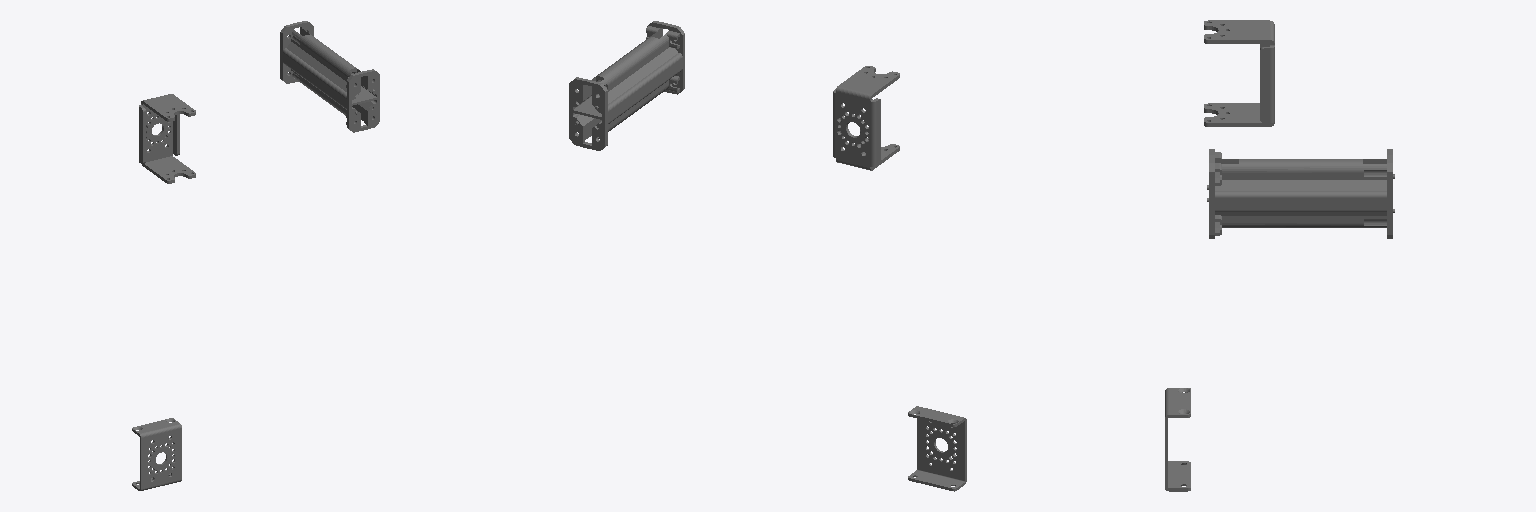
URDF robot description (turtlebot3_manipulation):
<?xml version="1.0"?>
<robot name="turtlebot3_manipulation">

  <!-- Material Definitions -->
  <material name="light_black">
    <color rgba="0.1 0.1 0.1 1.0"/>
  </material>

  <material name="dark">
    <color rgba="0.2 0.2 0.2 1.0"/>
  </material>

  <material name="grey">
    <color rgba="0.5 0.5 0.5 1.0"/>
  </material>

  <!-- TurtleBot3 Waffle Pi Definition -->
  <link name="base_footprint"/>

  <joint name="base_joint" type="fixed">
    <parent link="base_footprint"/>
    <child link="base_link"/>
    <origin xyz="0 0 0.010" rpy="0 0 0"/>
  </joint>

  <link name="base_link">
    <visual>
      <origin xyz="-0.064 0 0.0" rpy="0 0 0"/>
      <geometry>
        <mesh filename="package://turtlebot3/meshes/base.stl" scale="0.001 0.001 0.001"/>
      </geometry>
      <material name="light_black"/>
    </visual>
  </link>

  <!-- Wheels -->
  <joint name="wheel_left_joint" type="continuous">
    <parent link="base_link"/>
    <child link="wheel_left_link"/>
    <origin xyz="0.0 0.144 0.023" rpy="-1.57 0 0"/>
    <axis xyz="0 0 1"/>
  </joint>

  <link name="wheel_left_link">
    <visual>
      <origin xyz="0 0 0" rpy="1.57 0 0"/>
      <geometry>
        <mesh filename="package://turtlebot3/meshes/left_tire.stl" scale="0.001 0.001 0.001"/>
      </geometry>
      <material name="dark"/>
    </visual>
  </link>

  <joint name="wheel_right_joint" type="continuous">
    <parent link="base_link"/>
    <child link="wheel_right_link"/>
    <origin xyz="0.0 -0.144 0.023" rpy="-1.57 0 0"/>
    <axis xyz="0 0 1"/>
  </joint>

  <link name="wheel_right_link">
    <visual>
      <origin xyz="0 0 0" rpy="1.57 0 0"/>
      <geometry>
        <mesh filename="package://turtlebot3/meshes/right_tire.stl" scale="0.001 0.001 0.001"/>
      </geometry>
      <material name="dark"/>
    </visual>
  </link>

  <!-- OpenManipulator-X -->
  <joint name="base_fixed" type="fixed">
    <parent link="base_link"/>
    <child link="link1"/>
    <origin xyz="-0.092 0.0 0.091" rpy="0 0 0"/>
  </joint>

  <link name="link1">
    <visual>
      <geometry>
        <mesh filename="package://turtlebot3/meshes/link1.stl" scale="0.001 0.001 0.001"/>
      </geometry>
      <material name="grey"/>
    </visual>
  </link>

  <joint name="joint1" type="revolute">
    <parent link="link1"/>
    <child link="link2"/>
    <origin xyz="0.012 0.0 0.017" rpy="0 0 0"/>
    <axis xyz="0 0 1"/>
    <limit lower="-2.827" upper="2.827" effort="1.0" velocity="1.0"/>
  </joint>

  <link name="link2">
    <visual>
      <geometry>
        <mesh filename="package://turtlebot3/meshes/link2.stl" scale="0.001 0.001 0.001"/>
      </geometry>
      <material name="grey"/>
    </visual>
  </link>

  <joint name="joint2" type="revolute">
    <parent link="link2"/>
    <child link="link3"/>
    <origin xyz="0.0 0.0 0.0595" rpy="0 0 0"/>
    <axis xyz="0 1 0"/>
    <limit lower="-1.8" upper="1.57" effort="1.0" velocity="1.0"/>
  </joint>

  <link name="link3">
    <visual>
      <geometry>
        <mesh filename="package://turtlebot3/meshes/link3.stl" scale="0.001 0.001 0.001"/>
      </geometry>
      <material name="grey"/>
    </visual>
  </link>

  <joint name="joint3" type="revolute">
    <parent link="link3"/>
    <child link="link4"/>
    <origin xyz="0.024 0 0.128" rpy="0 0 0"/>
    <axis xyz="0 1 0"/>
    <limit lower="-2.827" upper="2.827" effort="1.0" velocity="1.0"/>
  </joint>

  <link name="link4">
    <visual>
      <geometry>
        <mesh filename="package://turtlebot3/meshes/link4.stl" scale="0.001 0.001 0.001"/>
      </geometry>
      <material name="grey"/>
    </visual>
  </link>

  <joint name="joint4" type="revolute">
    <parent link="link4"/>
    <child link="link5"/>
    <origin xyz="0.124 0.0 0.0" rpy="0 0 0"/>
    <axis xyz="0 1 0"/>
    <limit lower="-2.827" upper="2.827" effort="1.0" velocity="1.0"/>
  </joint>

  <link name="link5">
    <visual>
      <geometry>
        <mesh filename="package://turtlebot3/meshes/link5.stl" scale="0.001 0.001 0.001"/>
      </geometry>
      <material name="grey"/>
    </visual>
  </link>

  <!-- Grippers -->
  <joint name="gripper_left_joint" type="prismatic">
    <parent link="link5"/>
    <child link="gripper_left_link"/>
    <origin xyz="0.0817 0.021 0.0" rpy="0 0 0"/>
    <axis xyz="0 1 0"/>
    <limit lower="-0.01" upper="0.019" effort="1.0" velocity="1.0"/>
  </joint>

  <link name="gripper_left_link">
    <visual>
      <geometry>
        <mesh filename="package://turtlebot3/meshes/gripper_left_palm.stl" scale="0.001 0.001 0.001"/>
      </geometry>
      <material name="grey"/>
    </visual>
  </link>
</robot>

--- Facts derived from the render (not from the file) ---
The picture shows the robot from 3 angles, left to right: view 1: azimuth 30°, elevation 25°; view 2: azimuth 150°, elevation 25°; view 3: azimuth 270°, elevation 25°; orthographic projection.
Model turtlebot3_manipulation with 10 links and 9 joints (4 revolute, 2 continuous, 1 prismatic, 2 fixed), rooted at base_footprint, posed all joints at 0.
Links seen in each view (by area): view 1: link5, link4, link2; view 2: link5, link4, link2; view 3: link5, link4, link2.
Link boxes in pixels (x1,y1,x2,y2): link5: (280, 21, 379, 132); link4: (139, 94, 195, 183); link2: (132, 418, 181, 490); link5: (569, 21, 684, 150); link4: (833, 66, 899, 170); link2: (908, 406, 966, 491); link5: (1207, 149, 1394, 238); link4: (1204, 20, 1274, 126); link2: (1165, 388, 1190, 491).
Size in the robot's own frame: 0.1725 by 0.1007 by 0.227 metres.
3 mesh visuals loaded from 9 distinct referenced files (3 binary STL); not drawn: 6 (reference not matched to a file when rendering).